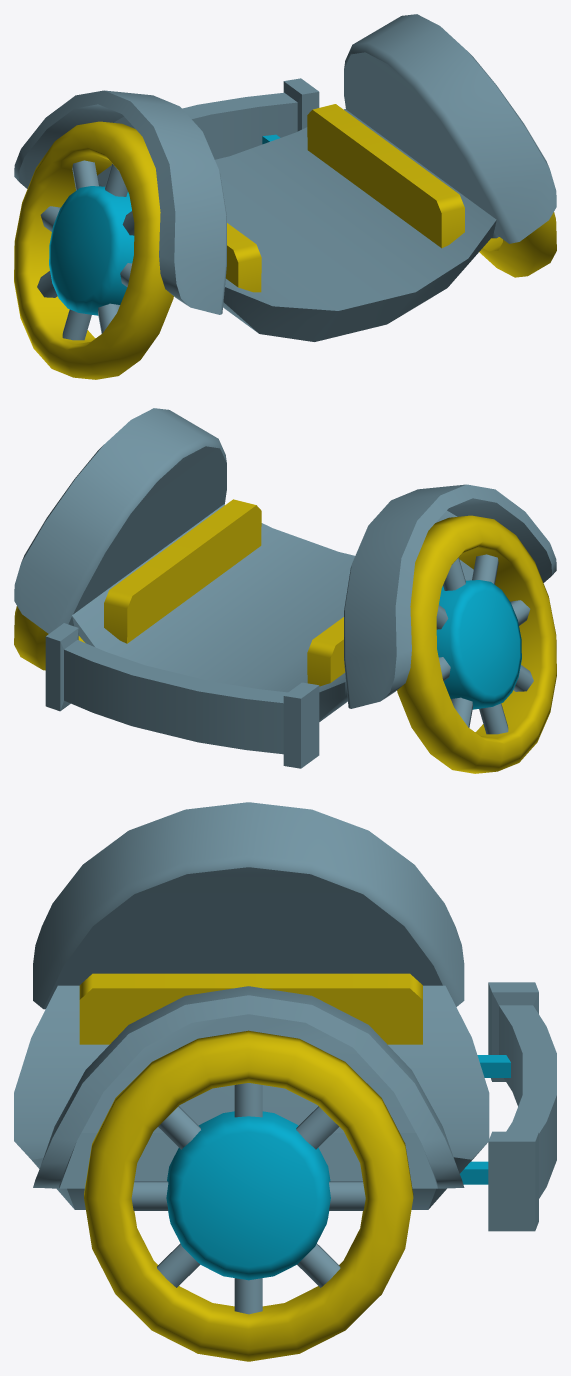
Rendered from Canon_tpose_materials.fbx.
The picture shows the model from 3 angles, top to bottom: view 1: azimuth 30°, elevation 25°; view 2: azimuth 150°, elevation 25°; view 3: azimuth 270°, elevation 25°; orthographic projection. The views are drawn at different scales.
Visible parts, largest first — view 1: base, wheel_r, wheel_l; view 2: base, wheel_r, wheel_l; view 3: base, wheel_l.
Part boxes in pixels (x1,y1,x2,y2): base: (14,14,556,341); wheel_r: (14,121,173,379); wheel_l: (479,212,556,277); base: (14,408,556,768); wheel_r: (397,515,556,773); wheel_l: (14,606,84,670); base: (14,802,556,1231); wheel_l: (84,1030,413,1361).
Size of the model in its own units: 9.69 by 5.01 by 7.54.
